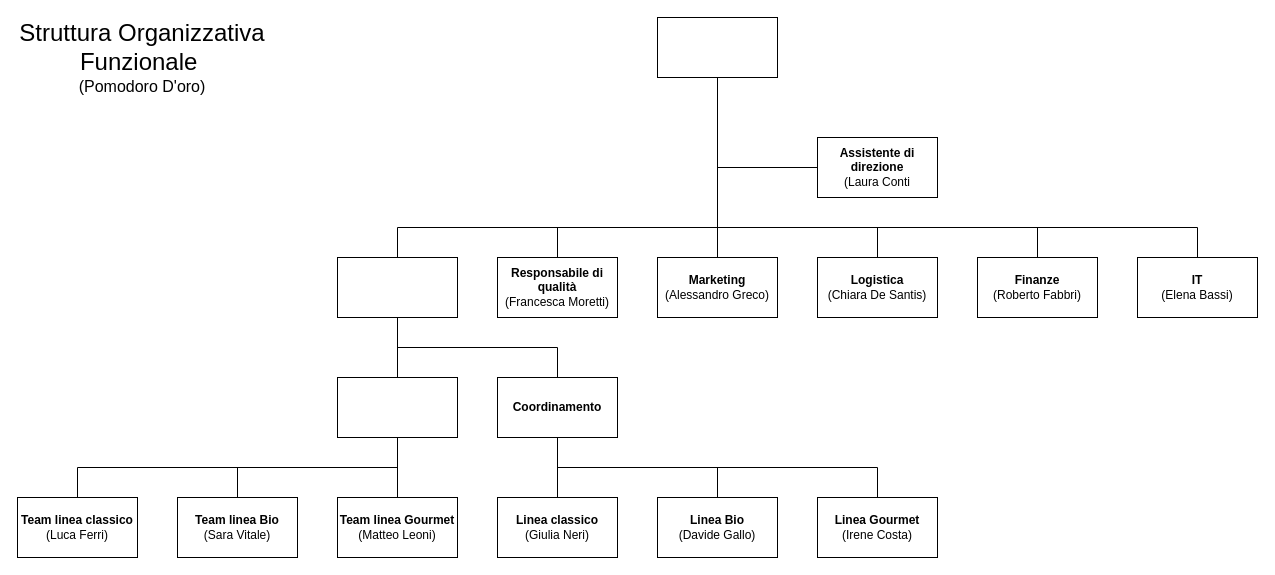
Some shapes in this 1275 by 575 pixel diagram are drawn without their labels. Here are the shapes that lost their labels. From the top down, the centre of each, then its label:
point 717,47: Direttore (Giovanni Bernasconi)
point 397,287: Produzione (Marco Frapolli)
point 397,407: Team operativi
